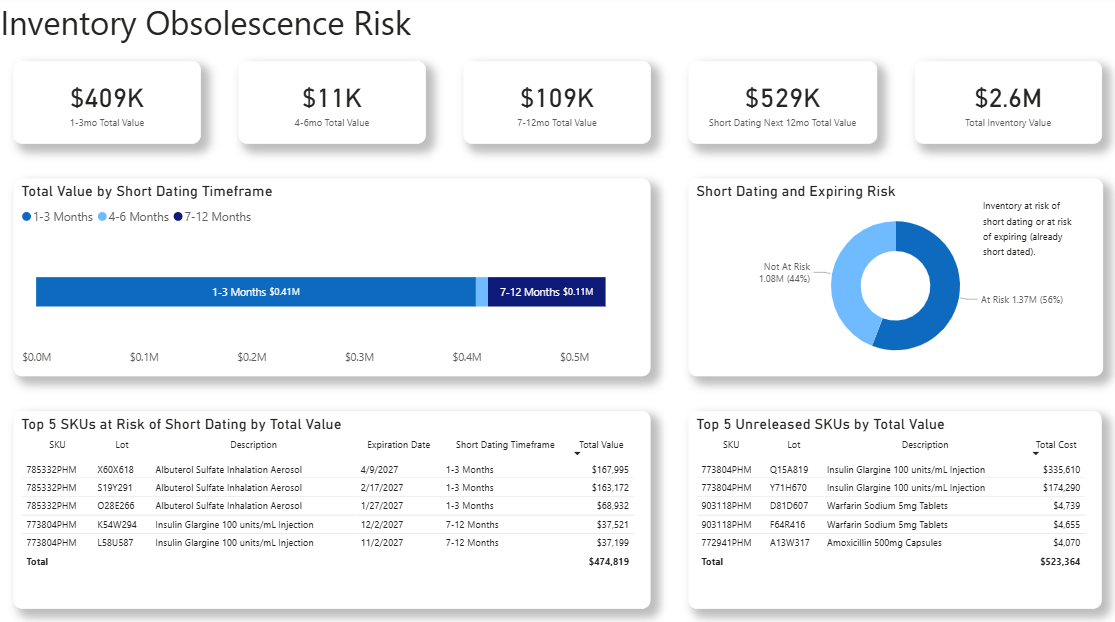

The page's visual inventory and layout, read from the dashboard file:
{"tool":"powerbi","page":{"name":"Overview","canvas":[1280,720],"ordinal":0},"visuals":[{"type":"textbox","box":[0,0,485.8,64.5],"z":0},{"type":"card","fields":{"Values":["Inventory.Tota_Cost"]},"box":[19.5,74.1,213.8,94.1],"z":1000},{"type":"card","fields":{"Values":["Inventory.Tota_Cost"]},"box":[276.1,74.1,213.8,94.1],"z":2000},{"type":"card","fields":{"Values":["Inventory.Tota_Cost"]},"box":[532.7,74.1,213.8,94.1],"z":3000},{"type":"card","fields":{"Values":["Inventory.Tota_Cost"]},"box":[1047.2,74.1,213.8,94.1],"z":4000},{"type":"card","fields":{"Values":["Inventory.Total_Cost"]},"box":[789.2,74.1,215.2,94.1],"z":5000},{"type":"barChart","title":"Total Value by Short Dating Timeframe","fields":{"Series":["Inventory.short_dating_timeframe"],"Y":["Inventory.Total_Cost"]},"box":[19.4,207.9,726.7,225.8],"z":6000},{"type":"group","id":"g1","title":"Group 1","box":[789.5,207.9,472.5,225.8],"z":7000},{"type":"donutChart","title":"Short Dating and Expiring Risk","fields":{"Y":["Inventory.Total_Cost"],"Category":["Inventory.short_date_risk"]},"box":[789.5,207.9,472.5,225.8],"z":8000,"group":"g1"},{"type":"tableEx","title":"Top 5 SKUs at Risk of Short Dating by Total Value","fields":{"Values":["Inventory.sku","Inventory.lot","Inventory.description","Inventory.expiration_date","Inventory.short_dating_timeframe","Inventory.Total_Cost"]},"box":[19.4,472.5,726.7,225.8],"z":8000},{"type":"tableEx","title":"Top 5 Unreleased SKUs by Total Value","fields":{"Values":["Inventory.sku","Inventory.lot","Inventory.description","Inventory.Total_Cost"]},"box":[789.5,472.5,471,225.8],"z":9000},{"type":"textbox","box":[1120.8,223.2,123.5,85.1],"z":10000,"group":"g1"}]}

Visuals, with their boxes in screenshot pixels (x1, y1, x2, y2), scaled from the page's 1280x720 canvas onto the 1115x622 screenshot:
textbox: [x1=0, y1=0, x2=423, y2=56]
card - Inventory.Tota_Cost: [x1=17, y1=64, x2=203, y2=145]
card - Inventory.Tota_Cost: [x1=241, y1=64, x2=427, y2=145]
card - Inventory.Tota_Cost: [x1=464, y1=64, x2=650, y2=145]
card - Inventory.Tota_Cost: [x1=912, y1=64, x2=1098, y2=145]
card - Inventory.Total_Cost: [x1=687, y1=64, x2=875, y2=145]
"Total Value by Short Dating Timeframe" barChart: [x1=17, y1=180, x2=650, y2=375]
"Group 1" group: [x1=688, y1=180, x2=1099, y2=375]
"Short Dating and Expiring Risk" donutChart: [x1=688, y1=180, x2=1099, y2=375]
"Top 5 SKUs at Risk of Short Dating by Total Value" tableEx: [x1=17, y1=408, x2=650, y2=603]
"Top 5 Unreleased SKUs by Total Value" tableEx: [x1=688, y1=408, x2=1098, y2=603]
textbox: [x1=976, y1=193, x2=1084, y2=266]
